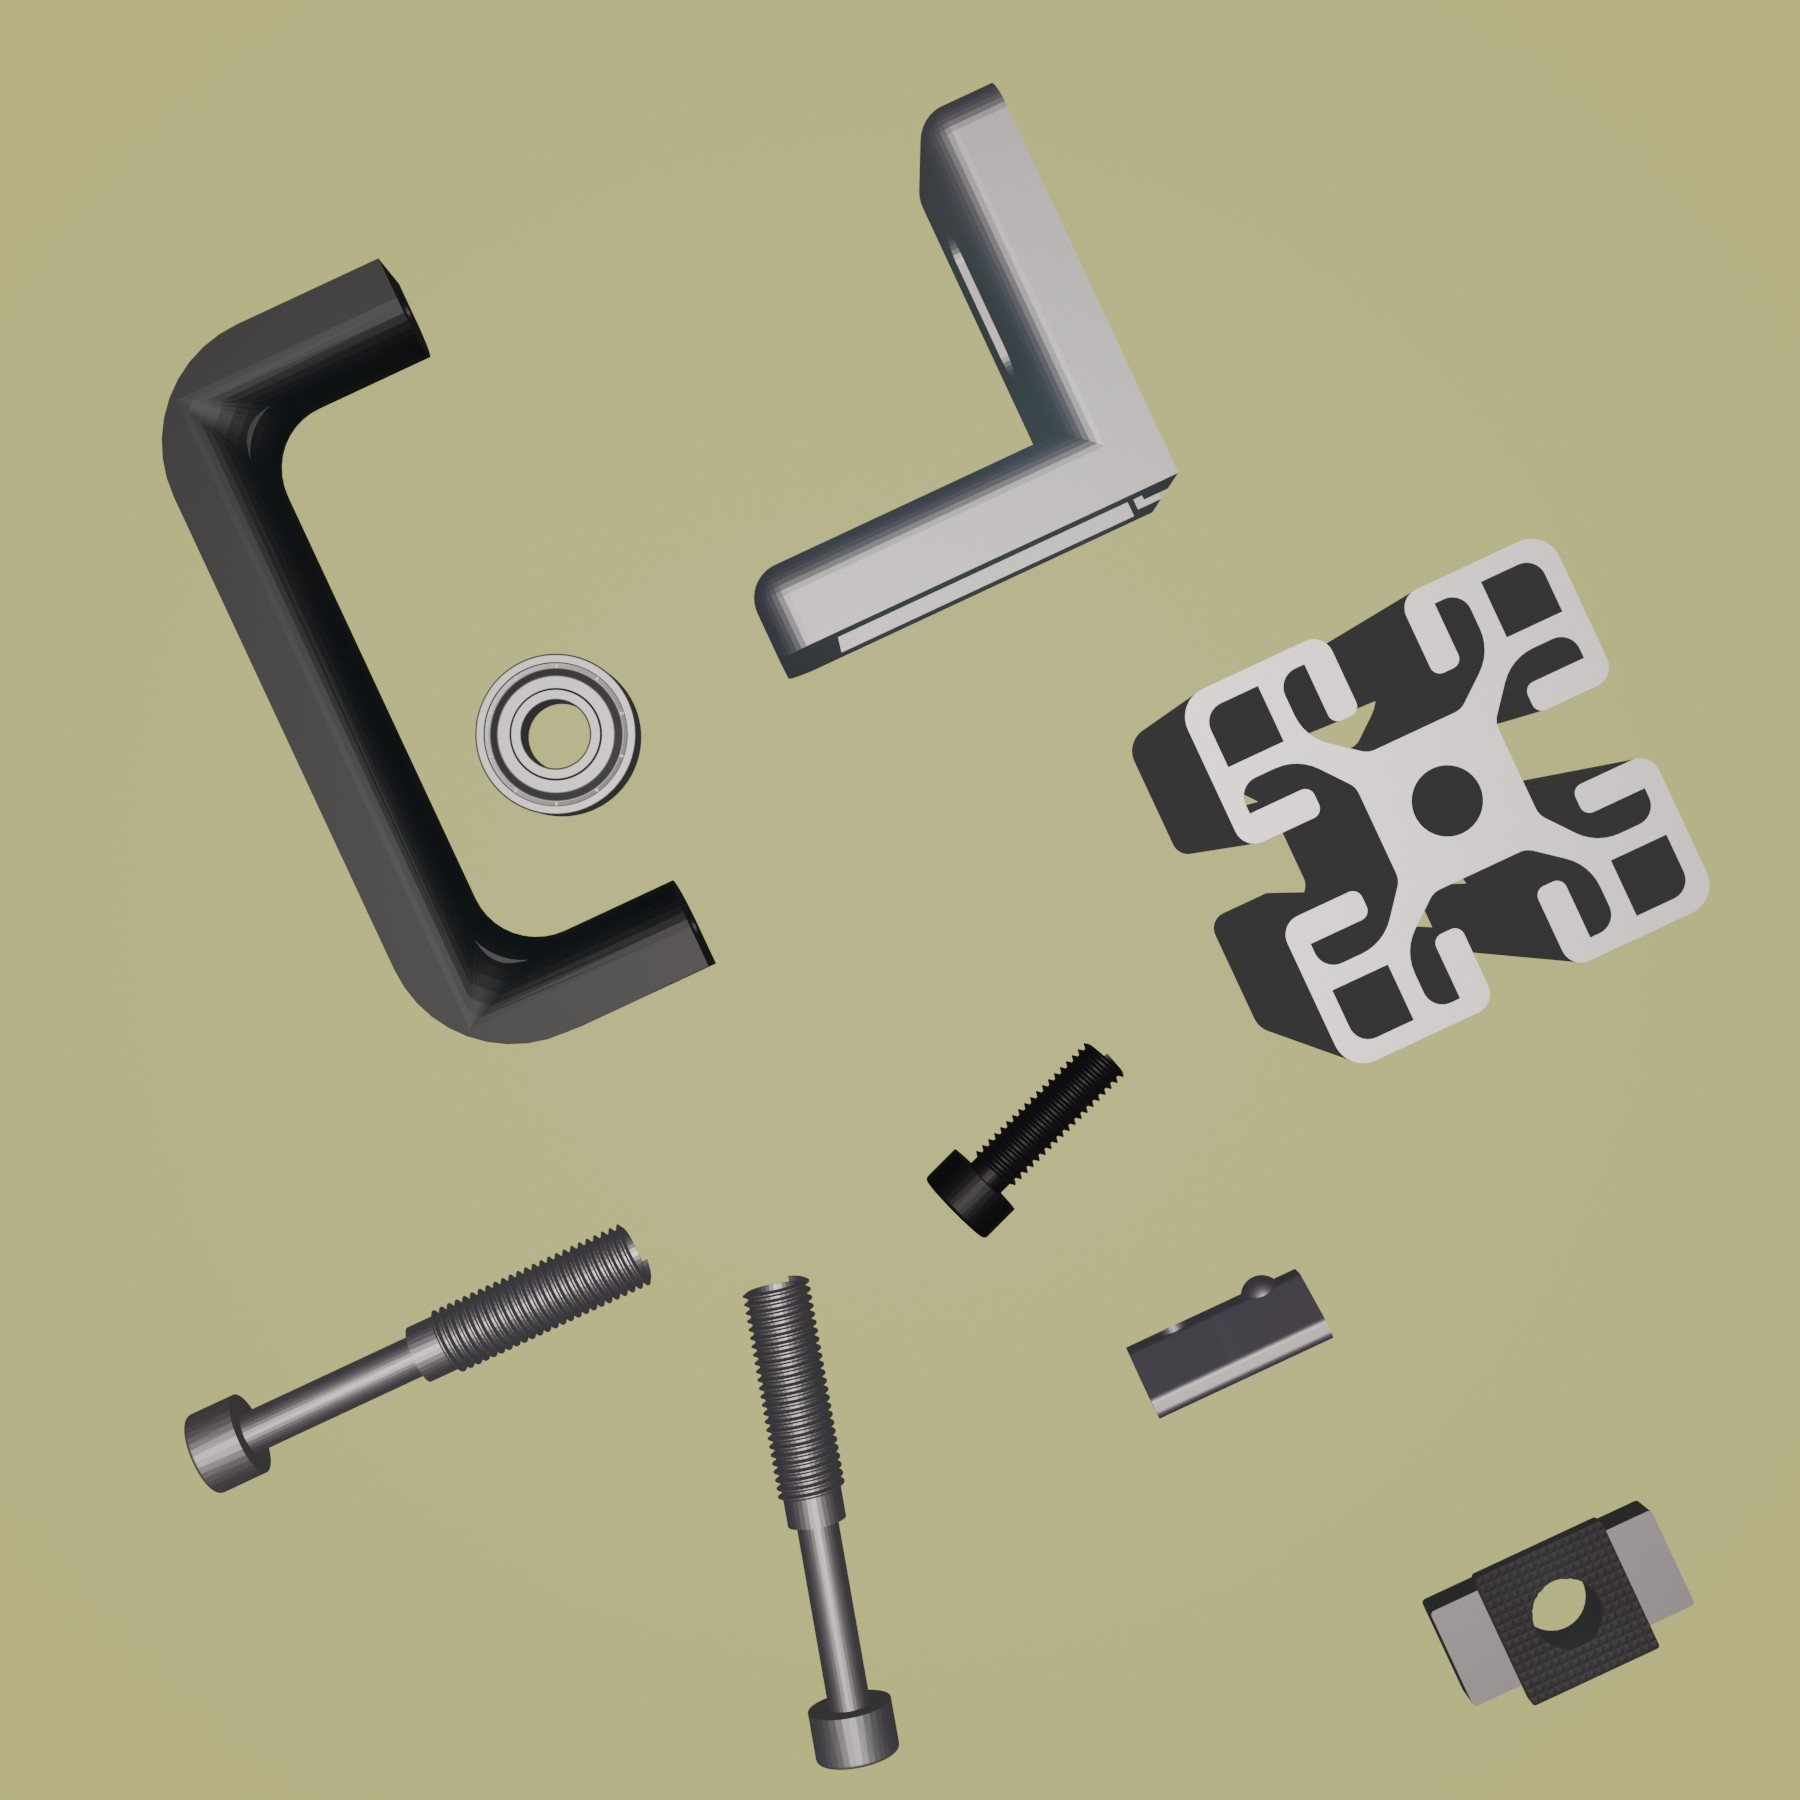Aluminium Extension: (1127, 536, 1713, 1068)
Ball Bearing: (473, 653, 643, 818)
Multiwinkel: (752, 81, 1179, 682)
Pull Handle: (158, 254, 719, 1047)
Shoulder Socket Head Cap Screw: (181, 1223, 654, 1497), (738, 1269, 902, 1774)
Socket Head Cap Screw: (923, 1038, 1124, 1243)
T Nut Square: (1419, 1495, 1698, 1711)
T Spring Nut: (1124, 1266, 1337, 1423)
